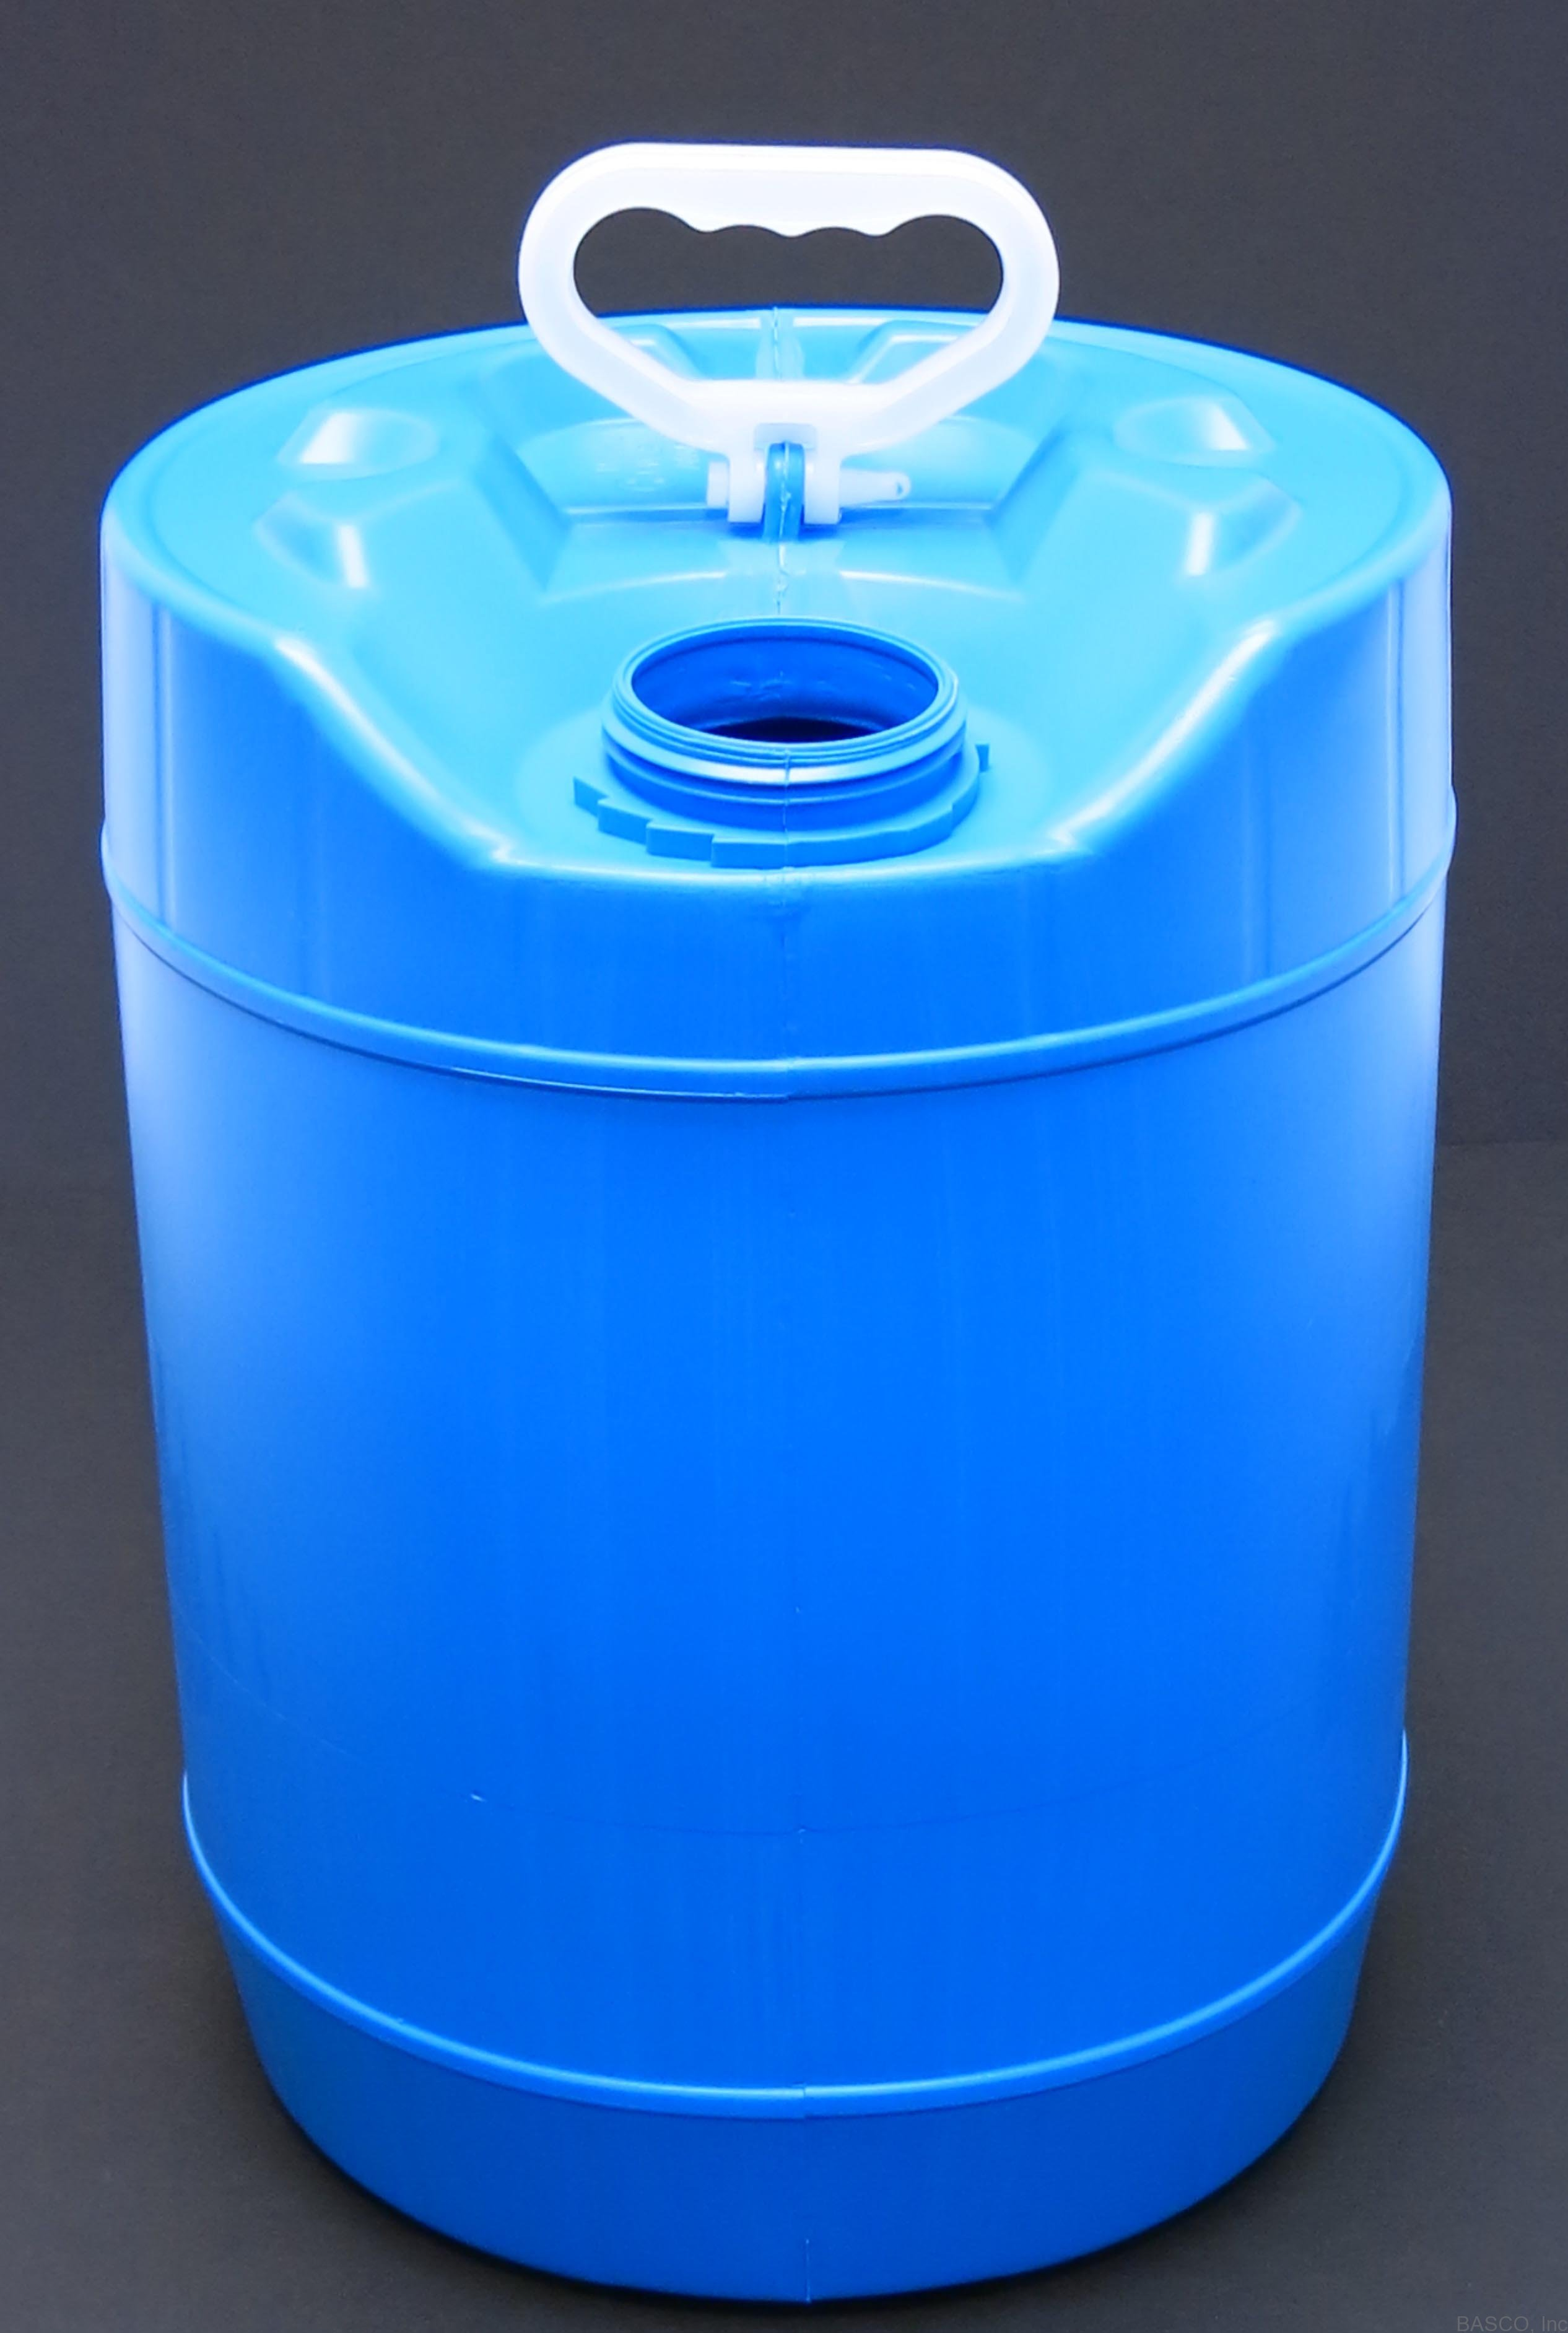Rec_Plastic: (42, 14, 1489, 2293)
